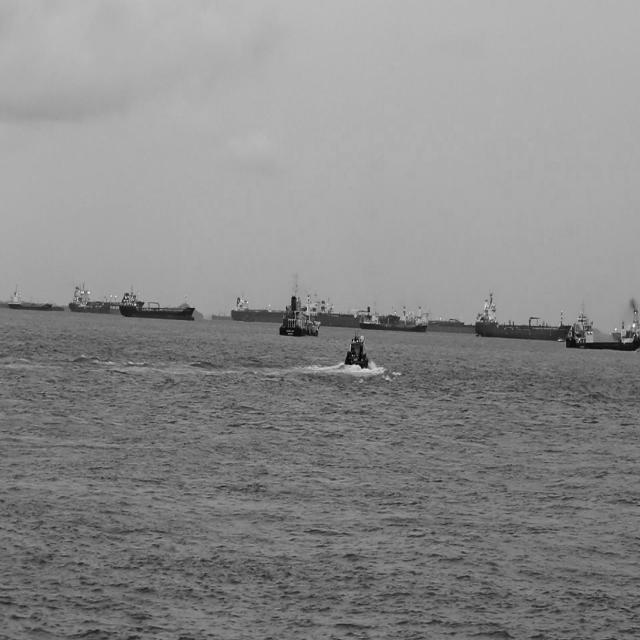ship: (472, 280, 574, 336), (562, 301, 638, 354), (299, 287, 379, 329), (119, 286, 198, 323), (360, 298, 430, 336), (398, 298, 468, 335), (228, 288, 297, 320), (276, 296, 322, 340), (340, 326, 372, 386), (610, 288, 640, 340), (70, 284, 112, 316), (6, 288, 56, 312), (85, 292, 131, 314), (206, 301, 226, 328)
